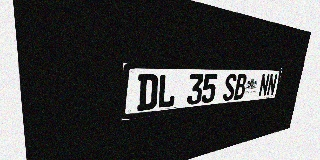3: (186, 74, 204, 105)
5: (201, 74, 218, 104)
B: (234, 74, 247, 100)
D: (137, 74, 158, 111)
L: (157, 74, 177, 109)
N: (258, 74, 270, 97), (266, 74, 278, 96)
S: (222, 74, 237, 101)
